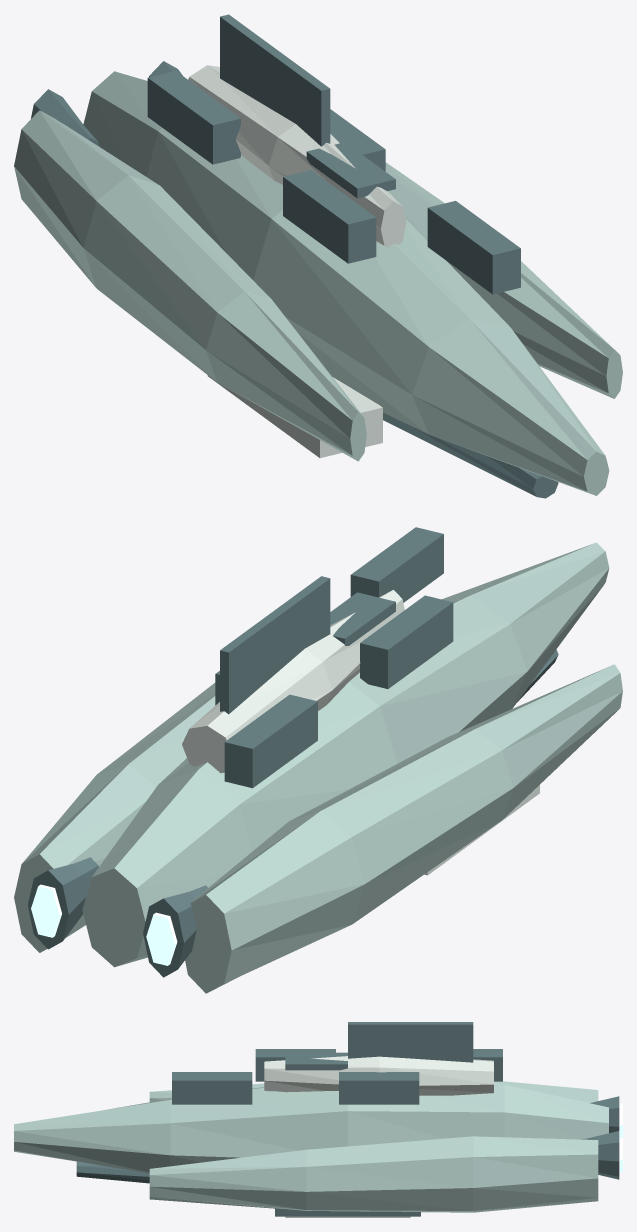
3 renders of one model, top to bottom at view 1: azimuth 30°, elevation 25°; view 2: azimuth 150°, elevation 25°; view 3: azimuth 270°, elevation 25°, orthographic. The views are drawn at different scales.
Bounding box in the file's own units: 6.54 × 5.8 × 18.21.
